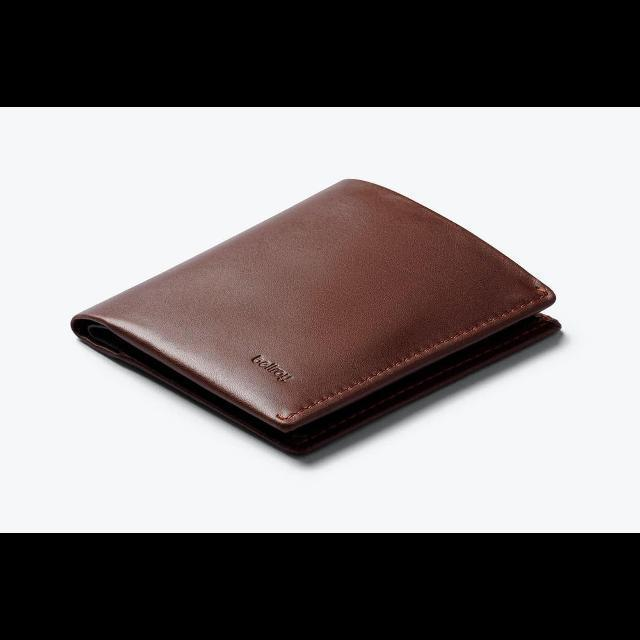wallet: (68, 174, 562, 452)
